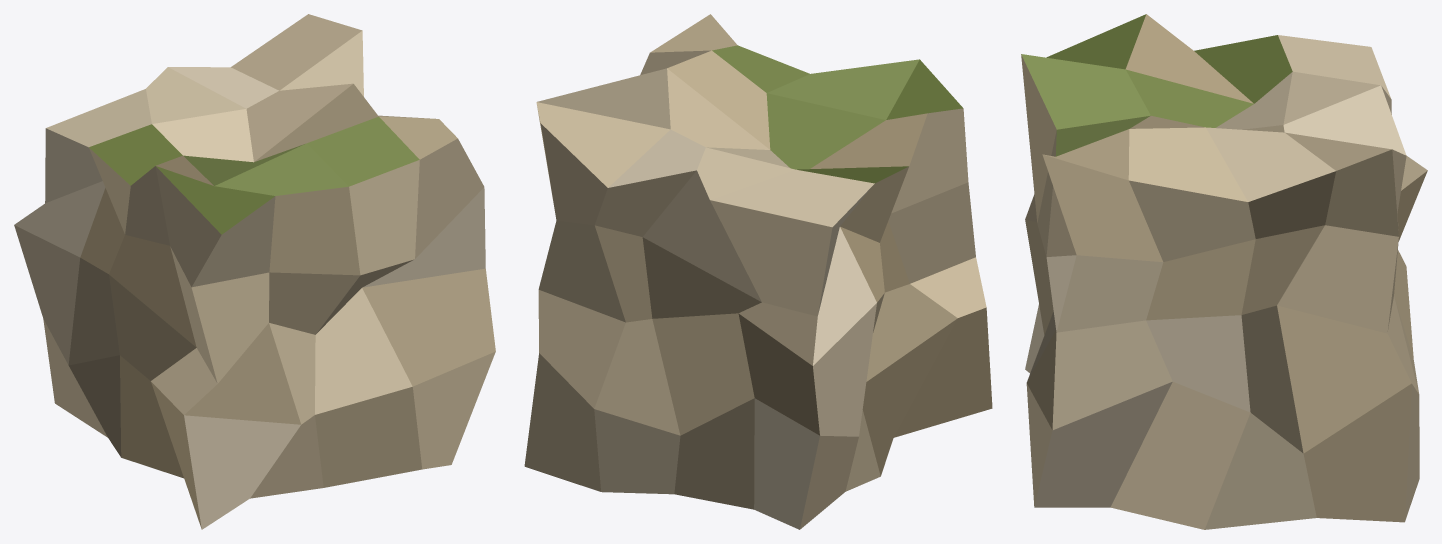
Rendered from Limestone_d.fbx.
3 renders of one model, left to right at view 1: azimuth 30°, elevation 25°; view 2: azimuth 150°, elevation 25°; view 3: azimuth 270°, elevation 25°, orthographic. The views are drawn at different scales.
Visible parts, largest first — view 1: Limestone_d; view 2: Limestone_d; view 3: Limestone_d.
Part boxes in pixels (x1=…): Limestone_d: x1=14, y1=14, x2=495, y2=529; Limestone_d: x1=524, y1=14, x2=992, y2=529; Limestone_d: x1=1021, y1=14, x2=1427, y2=529.
Size of what is drawn, in the model's own units: 1 by 1 by 1.
